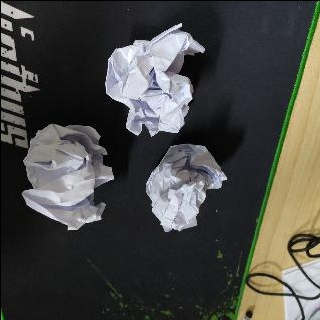8/可回收垃圾/纸: (104, 23, 206, 137), (22, 123, 114, 231), (146, 144, 227, 231)
